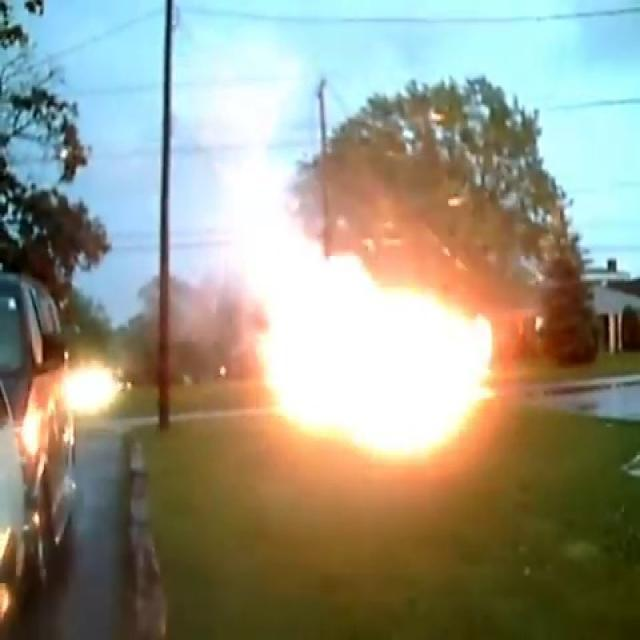Fire: (223, 121, 506, 467)
